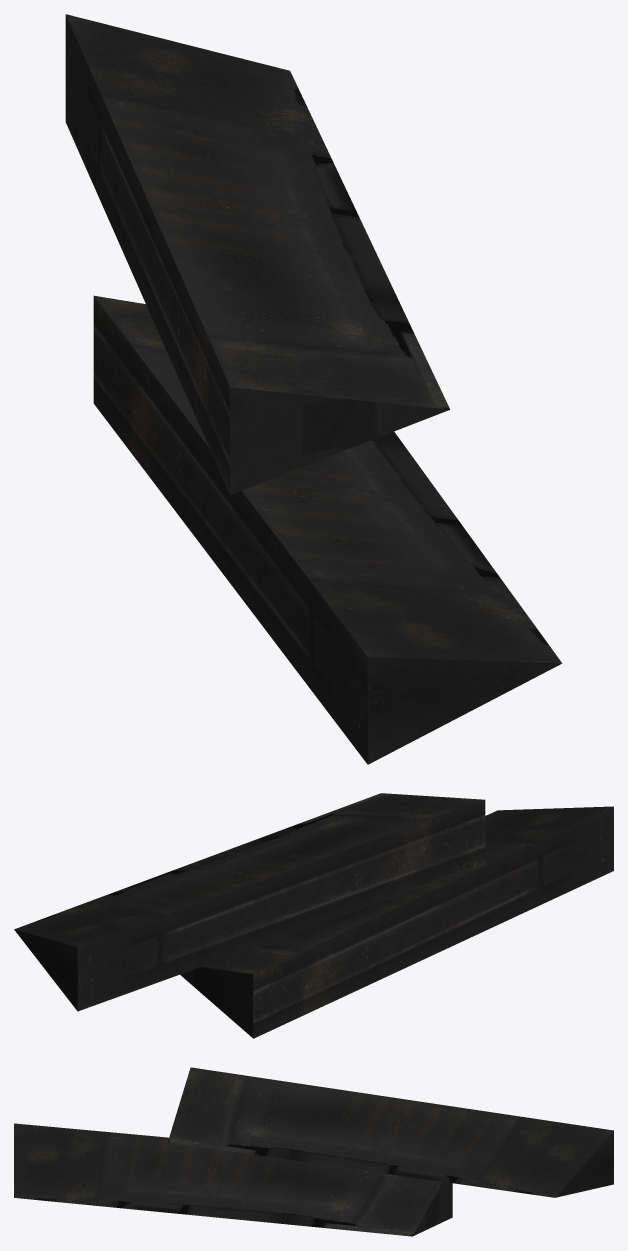
The model's file is t6_attach_fastmag_scorpion_world_LOD2.obj.
3 views of the same model, one above another, from view 1: azimuth 30°, elevation 25°; view 2: azimuth 150°, elevation 25°; view 3: azimuth 270°, elevation 25° (orthographic). The views are drawn at different scales.
Parts seen in each view (by area): view 1: mtl_t6_wpn_smg_scorpion_camo3, mtl_t6_wpn_smg_scorpion_camo4; view 2: mtl_t6_wpn_smg_scorpion_camo4, mtl_t6_wpn_smg_scorpion_camo3; view 3: mtl_t6_wpn_smg_scorpion_camo3, mtl_t6_wpn_smg_scorpion_camo4.
Boxes of the visible parts, left/top/right/bottom form: mtl_t6_wpn_smg_scorpion_camo3: left=65, top=14, right=562, bottom=764; mtl_t6_wpn_smg_scorpion_camo4: left=65, top=15, right=449, bottom=764; mtl_t6_wpn_smg_scorpion_camo4: left=77, top=800, right=613, bottom=1038; mtl_t6_wpn_smg_scorpion_camo3: left=14, top=793, right=613, bottom=1010; mtl_t6_wpn_smg_scorpion_camo3: left=14, top=1067, right=613, bottom=1236; mtl_t6_wpn_smg_scorpion_camo4: left=413, top=1182, right=452, bottom=1235.
Size of the model in its own units: 10.35 by 5.1 by 23.22.
